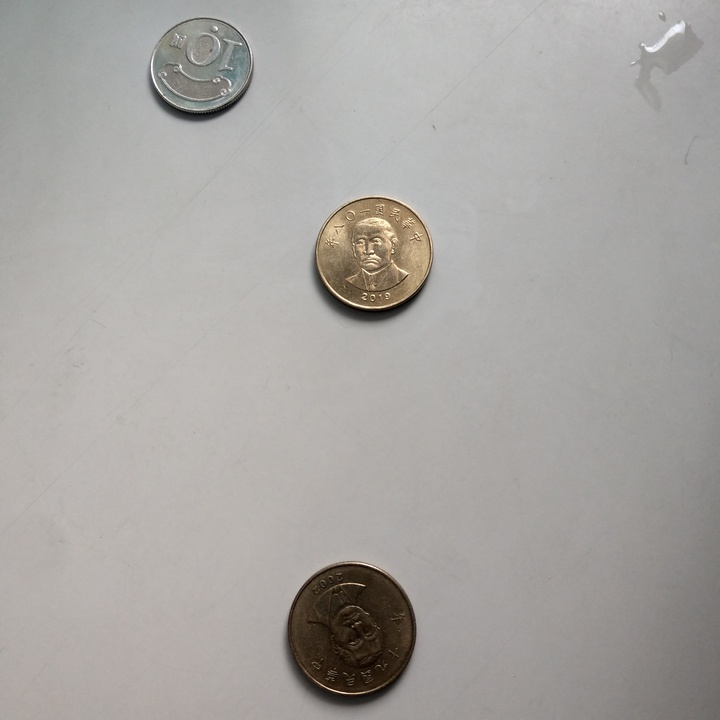10 dollar: (148, 16, 254, 118)
50 dollar: (284, 560, 422, 698), (309, 196, 434, 317)
